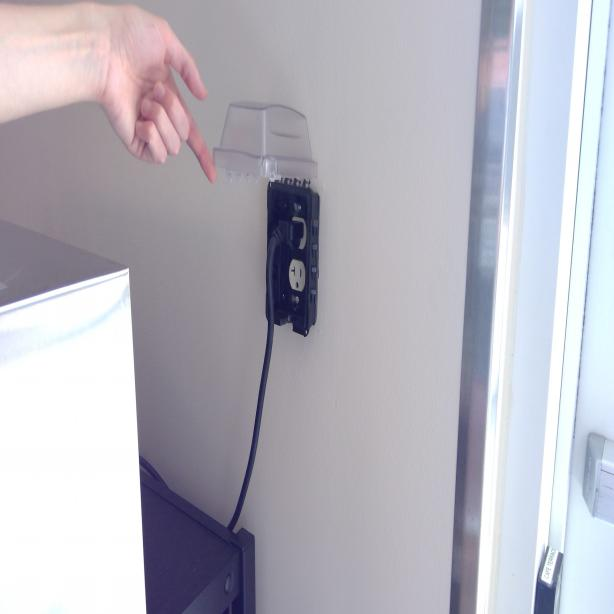typeb: (286, 260, 306, 292)
